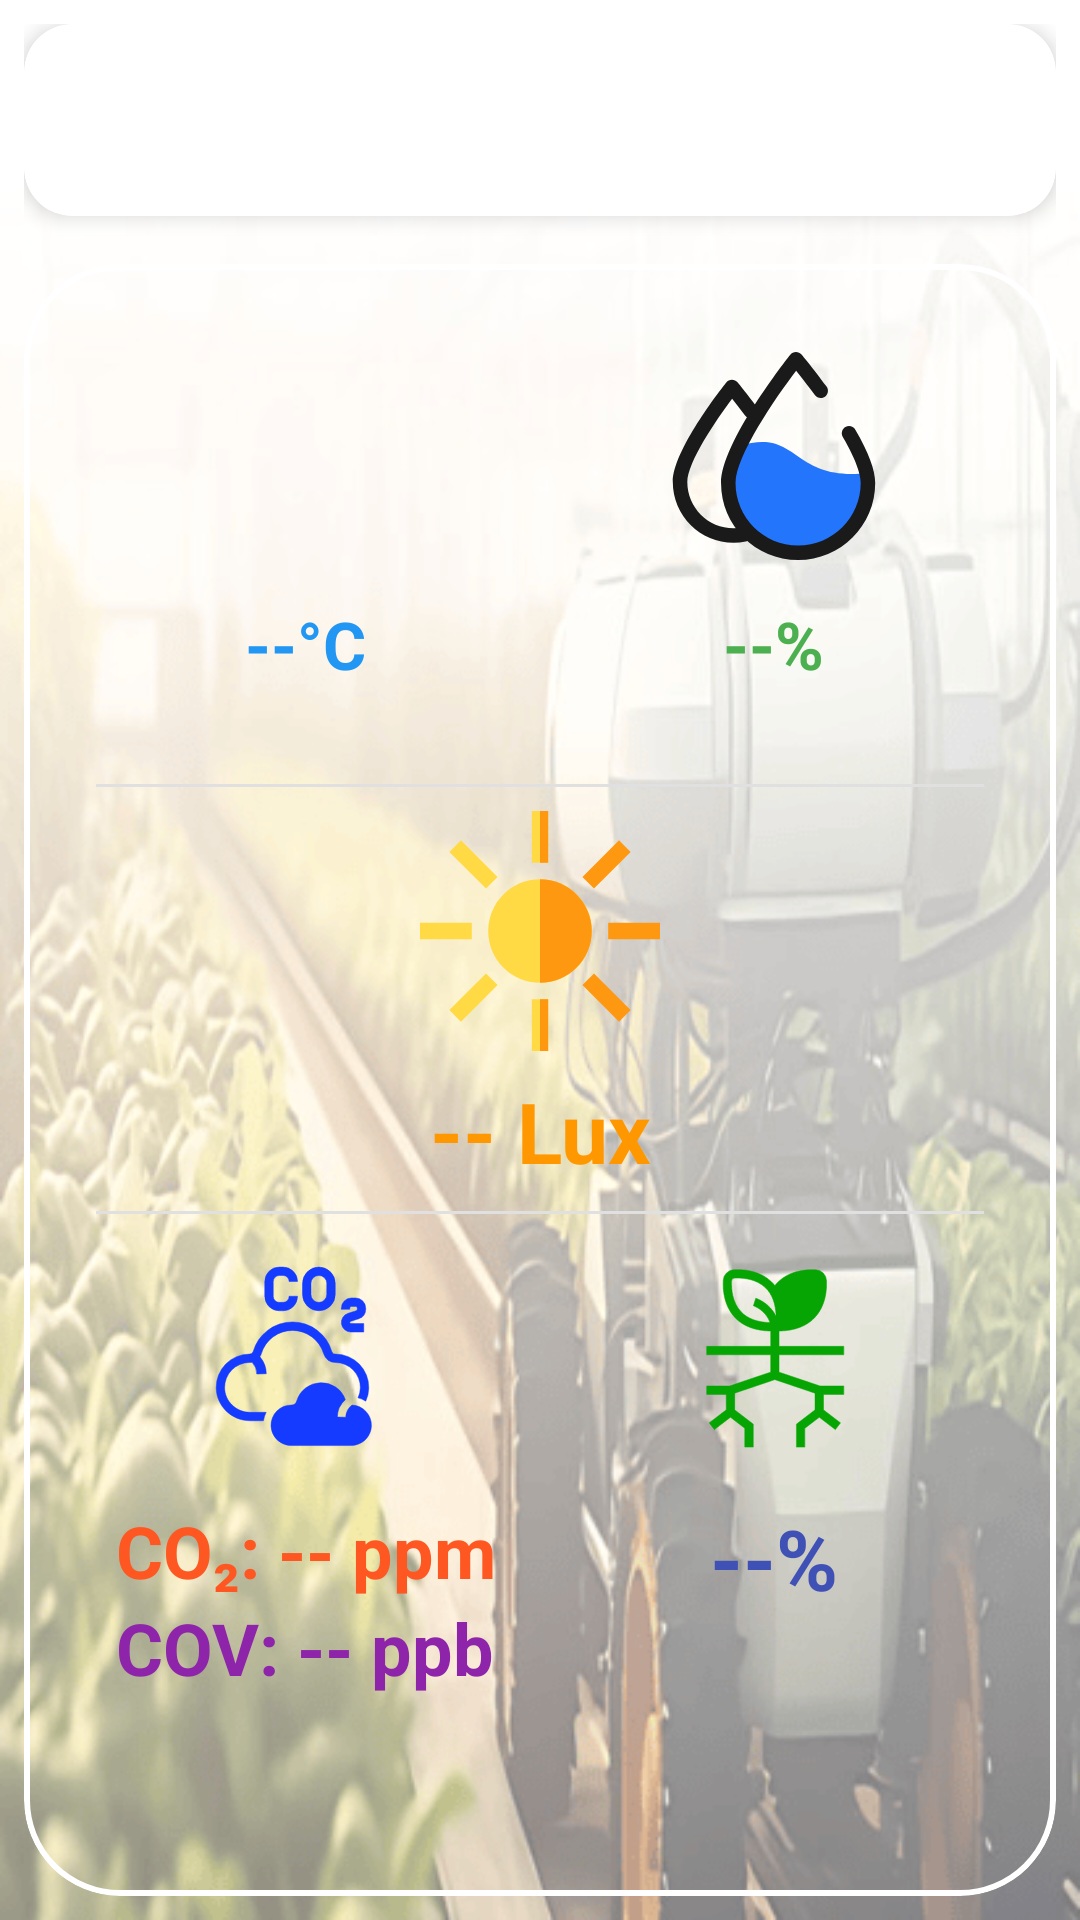

Named icons in this screenshot (1080px×1920px) and their bounding boxes, [x1, y1, x2, y2]:
brightness: [420, 811, 660, 1051]
humidity: [672, 352, 891, 569]
